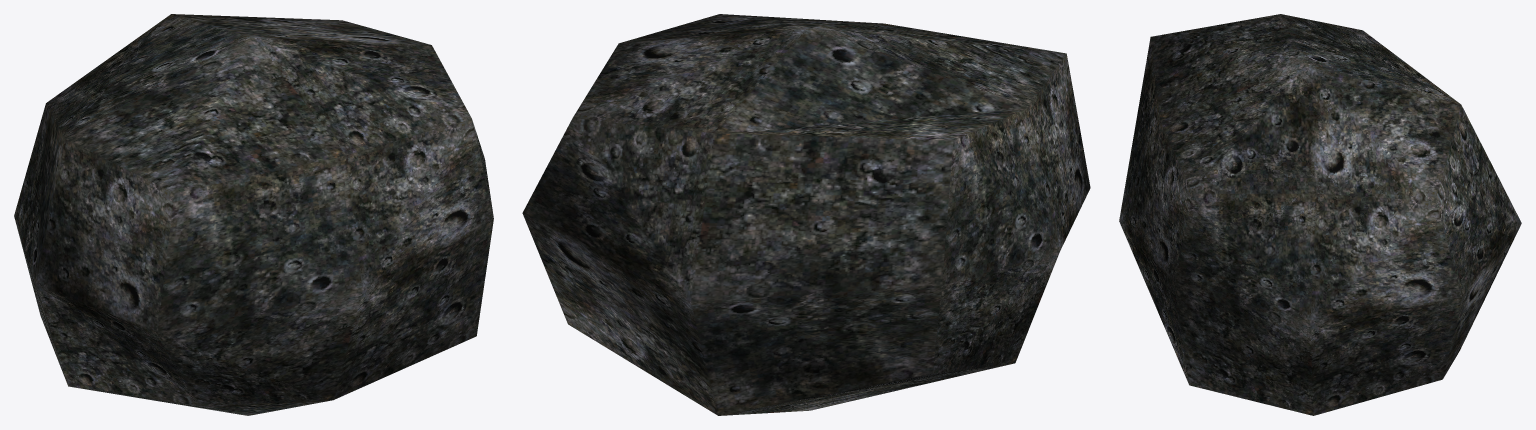
The model's file is asteroid_iron_large_s01_l2.fbx.
3 views of the same model, side by side, from view 1: azimuth 30°, elevation 25°; view 2: azimuth 150°, elevation 25°; view 3: azimuth 270°, elevation 25° (orthographic). The views are drawn at different scales.
Parts seen in each view (by area): view 1: mesh_node; view 2: mesh_node; view 3: mesh_node.
Part boxes in pixels (box(x1,y1,x2,y2)): mesh_node: box(14, 14, 493, 415); mesh_node: box(522, 14, 1090, 415); mesh_node: box(1119, 14, 1521, 415).
Bounding box in the file's own units: 105 × 81.34 × 89.15.
